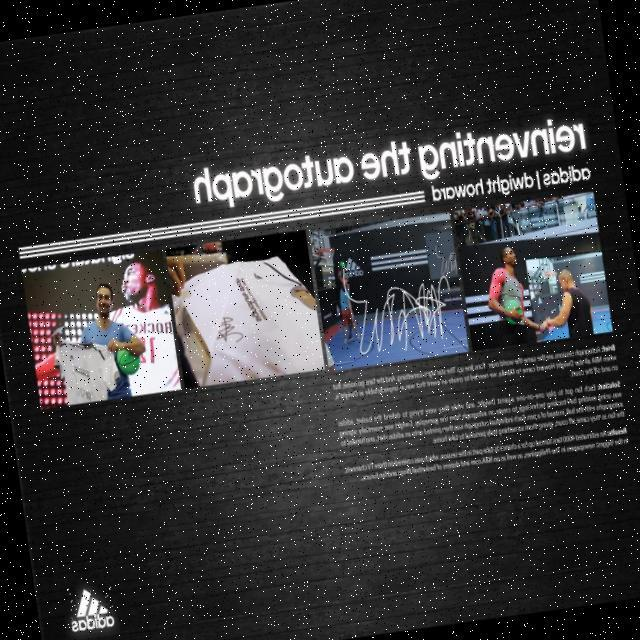Adidas: (65, 583, 117, 635), (539, 161, 590, 189), (338, 250, 366, 282)
